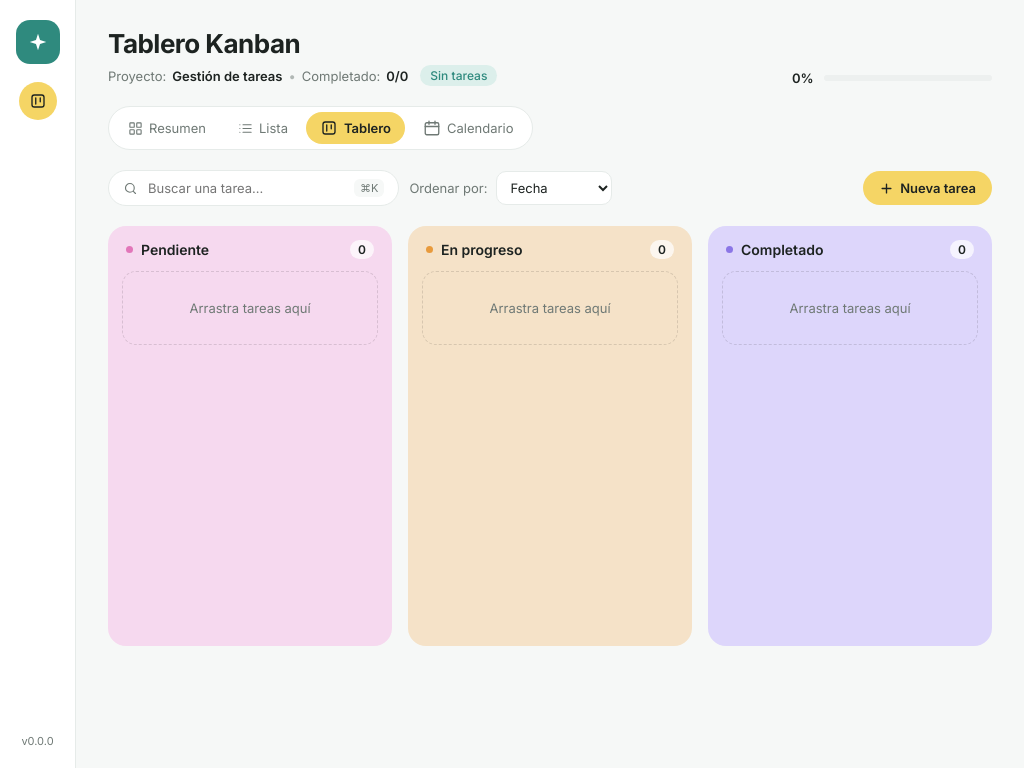
Scenario: App Kanban › filtra tareas con el buscador
Click the button "Nueva tarea" at point(928, 188), box x1=863 y1=171 x2=992 y2=205
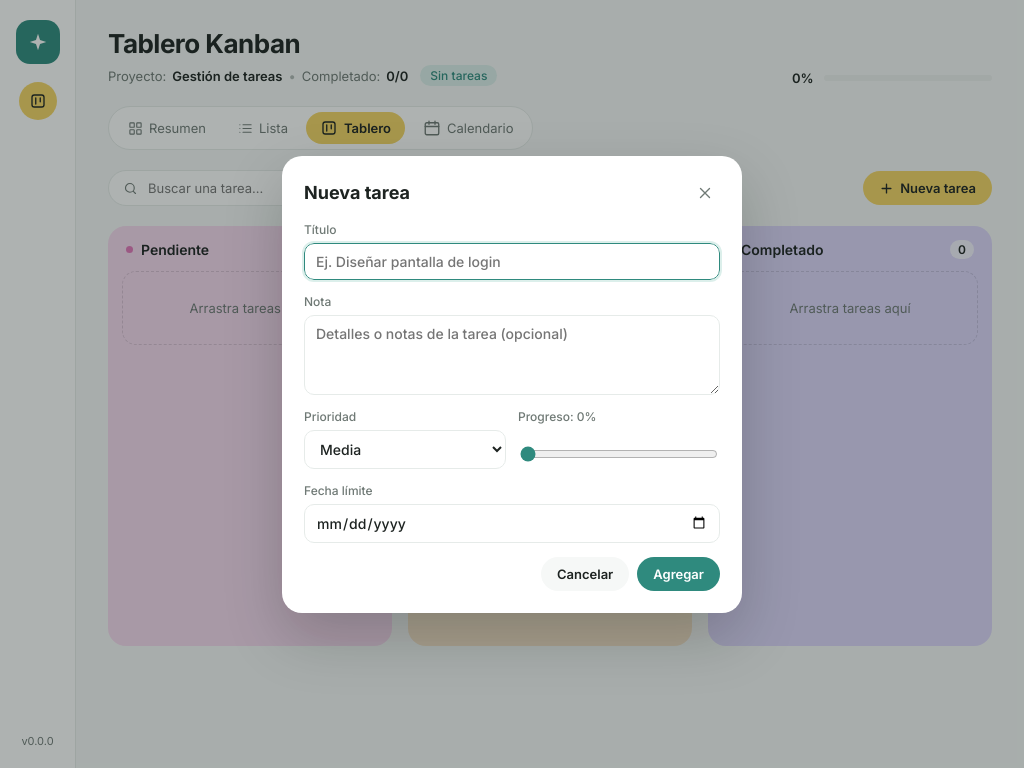
Type "Login" into the field labelled "Título" at point(512, 261), box x1=304 y1=242 x2=720 y2=280
Click the button "Agregar" at point(679, 574), box x1=637 y1=556 x2=720 y2=590
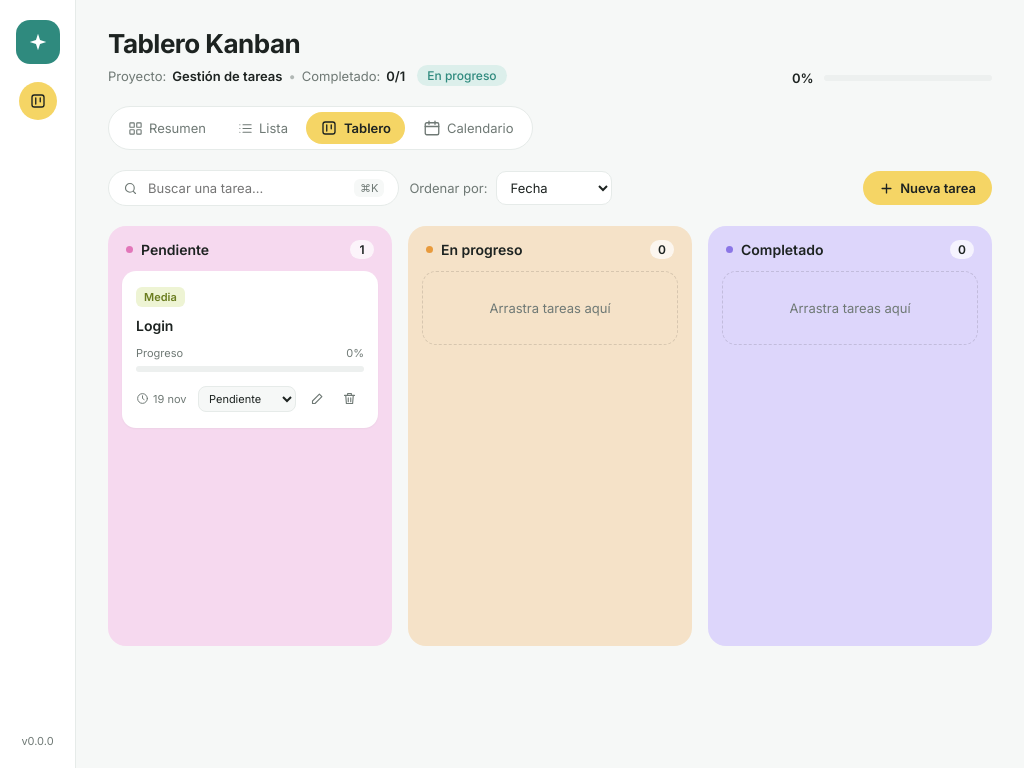
Click the button "Nueva tarea" at point(928, 188), box x1=863 y1=171 x2=992 y2=205
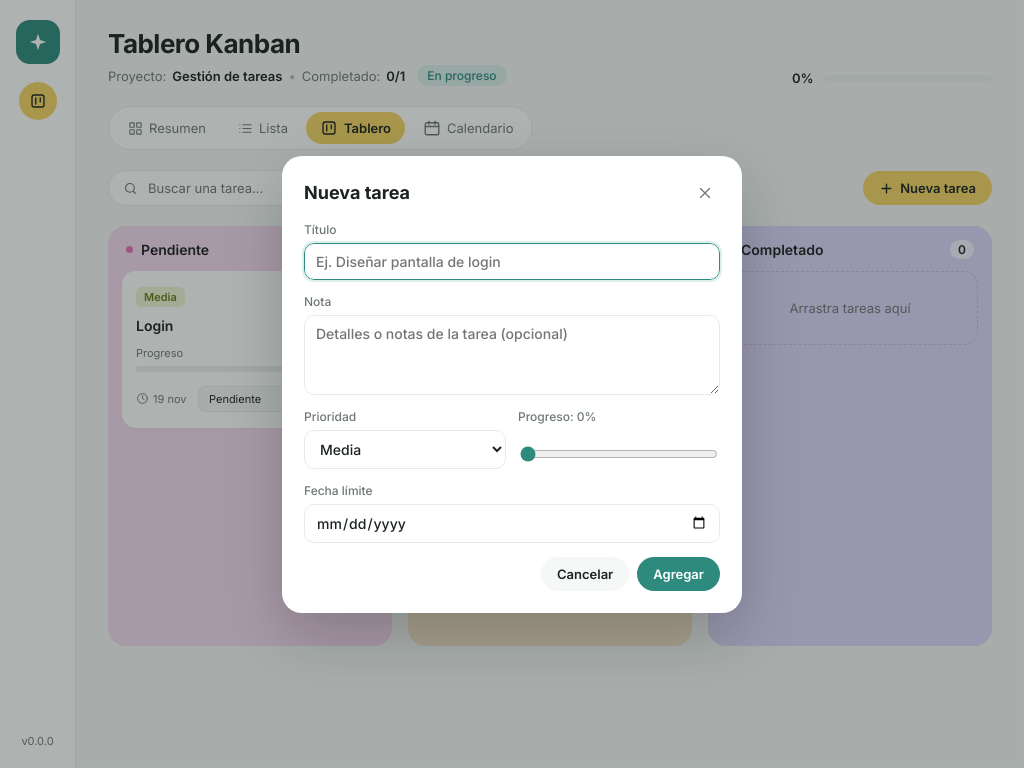
Type "Dashboard" into the field labelled "Título" at point(512, 261), box x1=304 y1=242 x2=720 y2=280
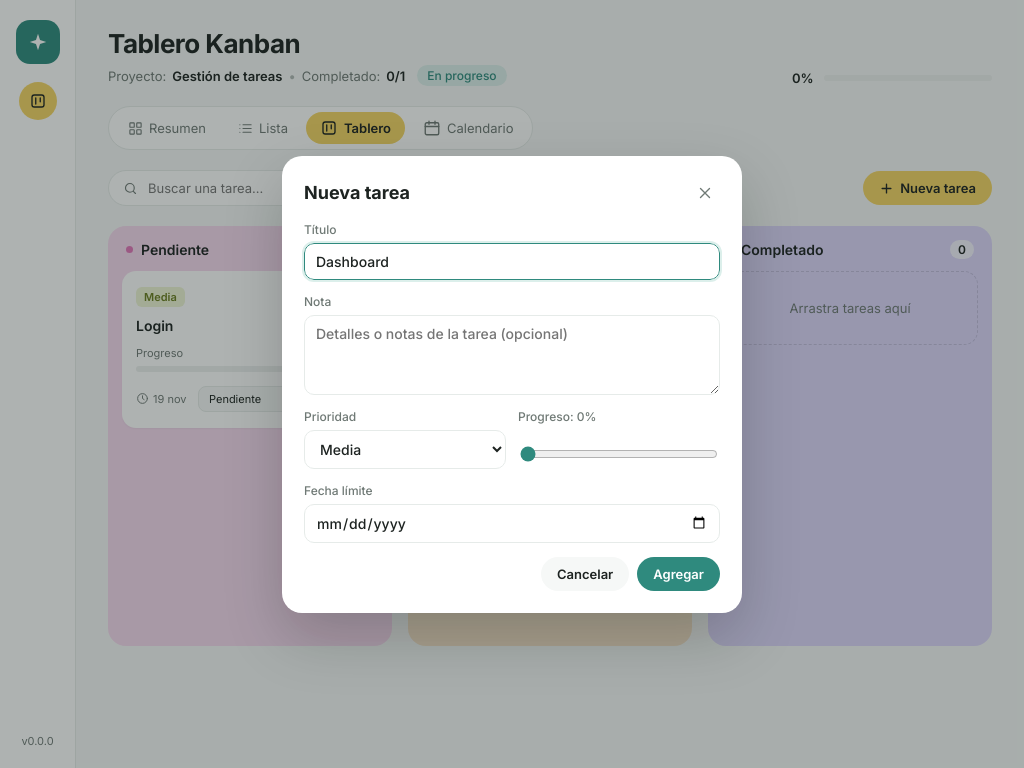
Click the button "Agregar" at point(679, 574), box x1=637 y1=556 x2=720 y2=590
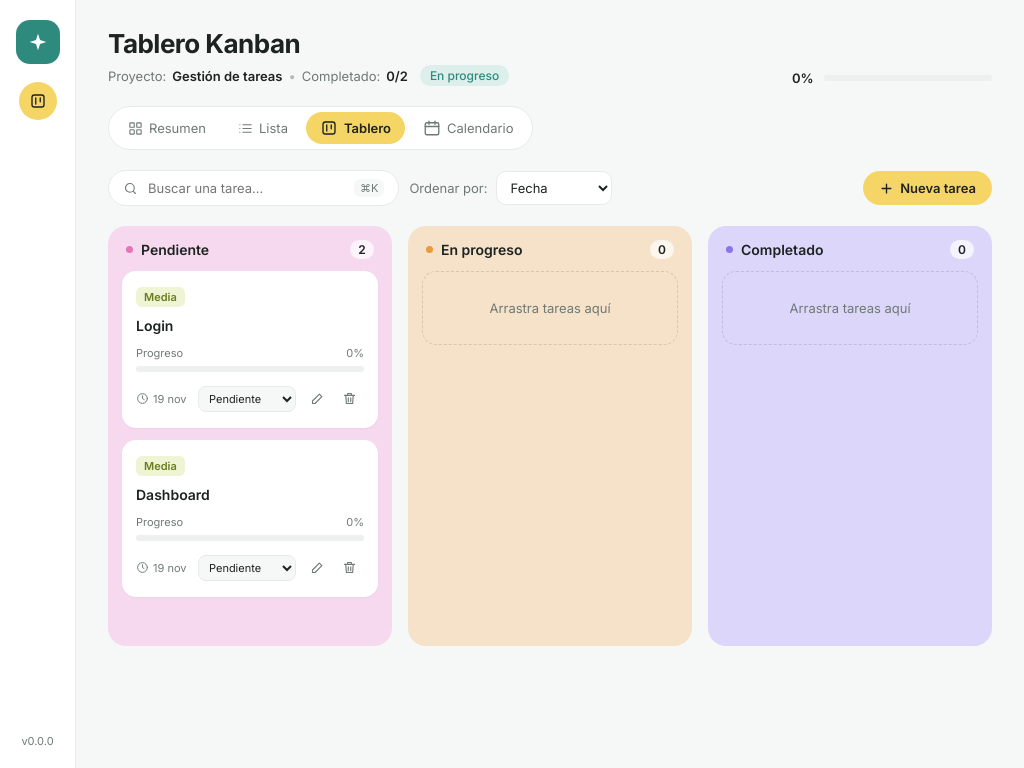
Type "dash" into the field named "Buscar tarea" at point(246, 188), box x1=146 y1=179 x2=346 y2=197
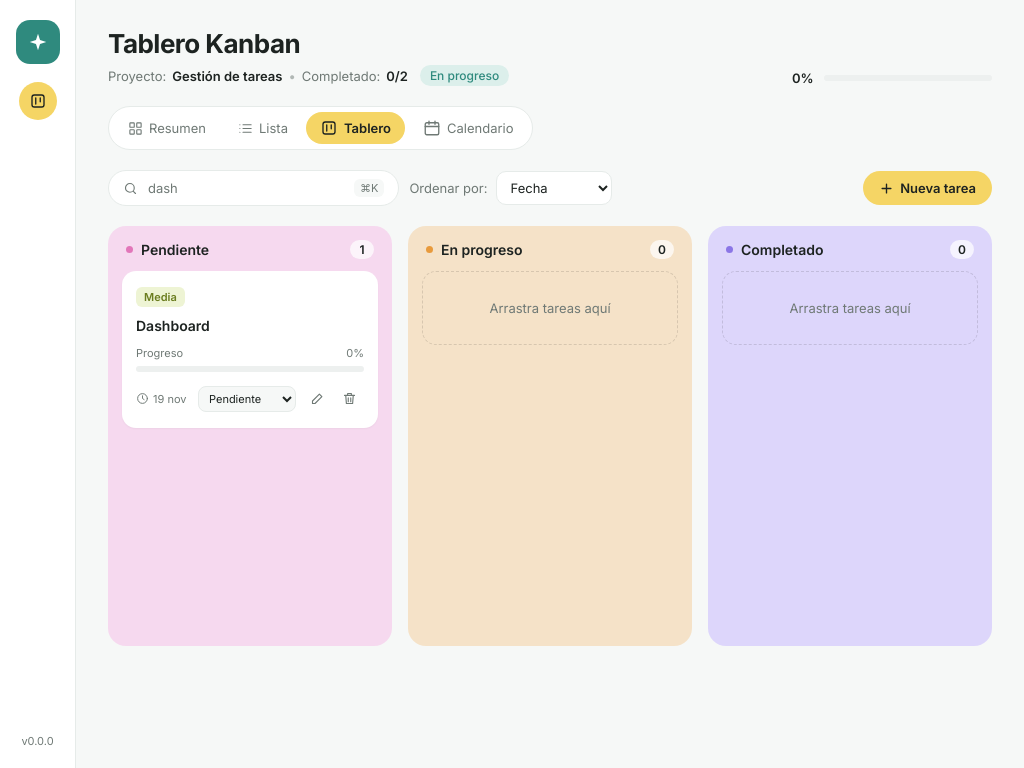
Result: the heading "Dashboard" is shown at x1=136 y1=317 x2=210 y2=334
Result: the heading "Login" is gone
